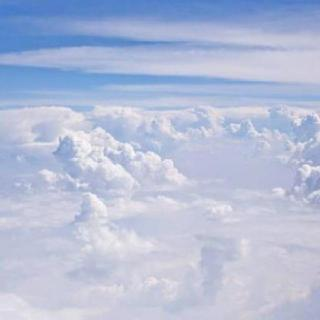Stratus: (2, 99, 320, 319)
